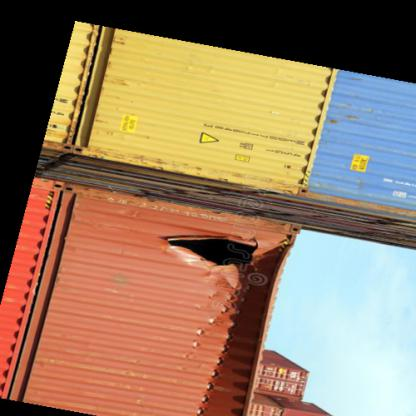Damage: (163, 212, 291, 321)
